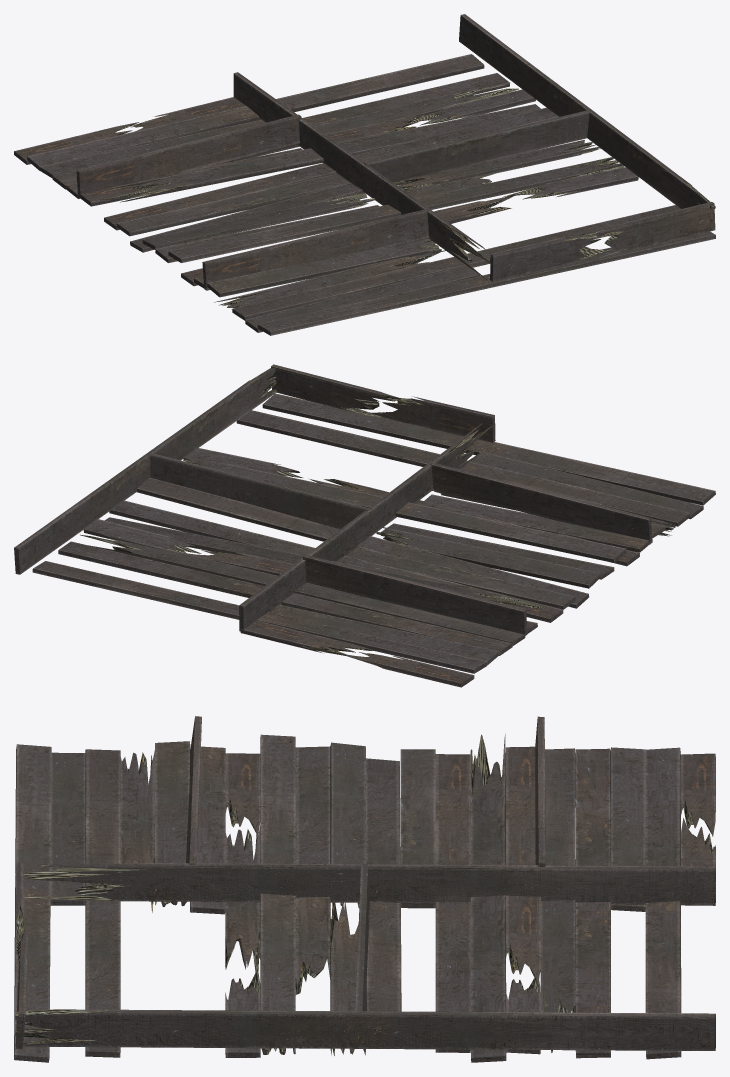
File: SM_CeilingA200x200.FBX
The picture shows the model from 3 angles, top to bottom: view 1: azimuth 30°, elevation 25°; view 2: azimuth 150°, elevation 25°; view 3: azimuth 270°, elevation 25°; orthographic projection. The views are drawn at different scales.
Parts seen in each view (by area): view 1: SM_CeilingA200x200_LOD0; view 2: SM_CeilingA200x200_LOD0; view 3: SM_CeilingA200x200_LOD0.
Boxes of the visible parts, x1,y1,x2,y2 form: SM_CeilingA200x200_LOD0: [14, 14, 715, 335]; SM_CeilingA200x200_LOD0: [14, 364, 715, 687]; SM_CeilingA200x200_LOD0: [14, 716, 715, 1062].
Size of what is drawn, in the model's own units: 207 by 16.68 by 200.
